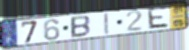2: (125, 10, 144, 32)
6: (42, 18, 61, 42)
7: (20, 20, 39, 44)
B: (69, 15, 91, 39)
E: (147, 6, 170, 31)
I: (103, 12, 110, 36)
